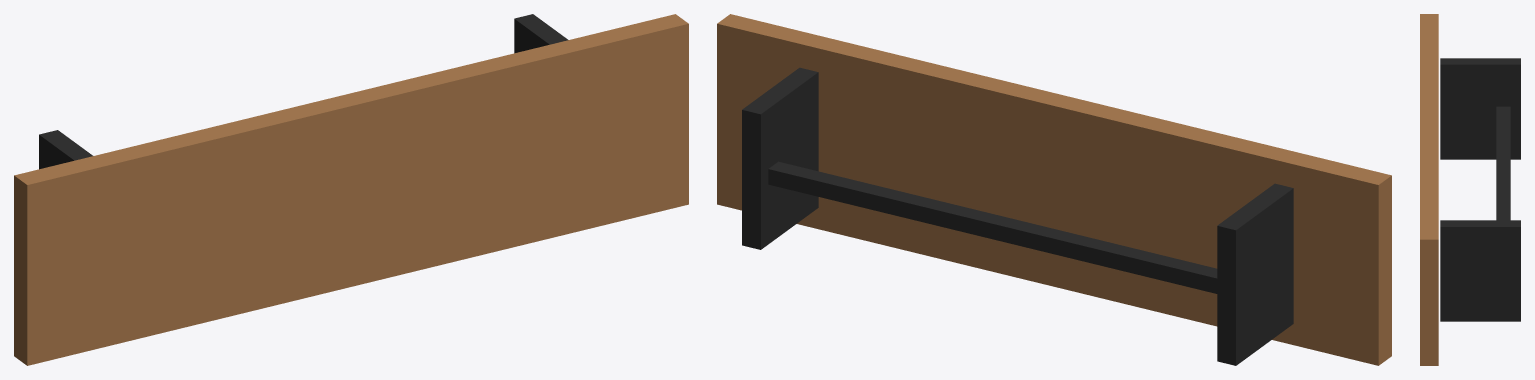
The model's file is gallery015_bench.glb.
3 views of the same model, side by side, from view 1: azimuth 30°, elevation 25°; view 2: azimuth 150°, elevation 25°; view 3: azimuth 270°, elevation 25° (orthographic). The views are drawn at different scales.
Parts seen in each view (by area): view 1: Seat, Leg_2, Leg_1; view 2: Seat, Stretcher, Leg_1, Leg_2; view 3: Leg_2, Leg_1, Seat, Stretcher.
Part boxes in pixels (left/top/right/bottom): Seat: left=14, top=14, right=688, bottom=365; Leg_2: left=514, top=14, right=568, bottom=53; Leg_1: left=39, top=130, right=92, bottom=169; Seat: left=717, top=14, right=1391, bottom=365; Stretcher: left=768, top=161, right=1217, bottom=293; Leg_1: left=1217, top=183, right=1293, bottom=365; Leg_2: left=742, top=67, right=818, bottom=249; Leg_2: left=1440, top=220, right=1520, bottom=321; Leg_1: left=1440, top=58, right=1520, bottom=159; Seat: left=1420, top=14, right=1438, bottom=365; Stretcher: left=1496, top=106, right=1510, bottom=220.
Size of the model in its own units: 2.45 by 0.64 by 0.4625.
